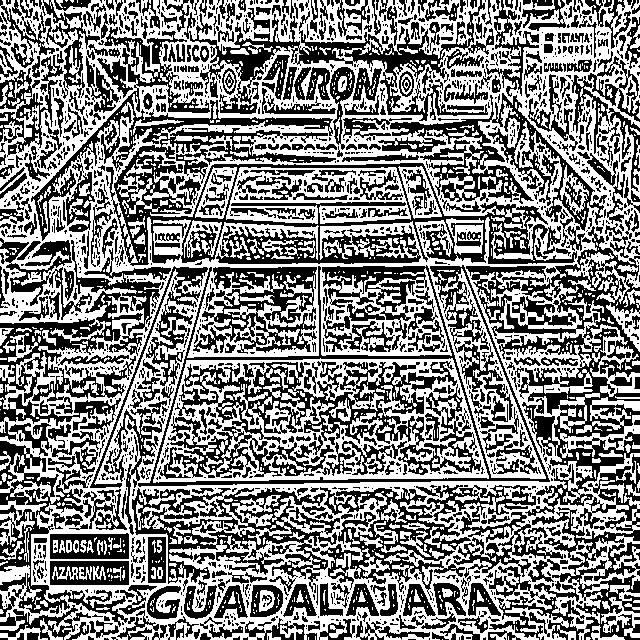left side: (396, 164, 549, 480), (91, 165, 239, 485)
player: (112, 406, 144, 543), (329, 96, 347, 158)
